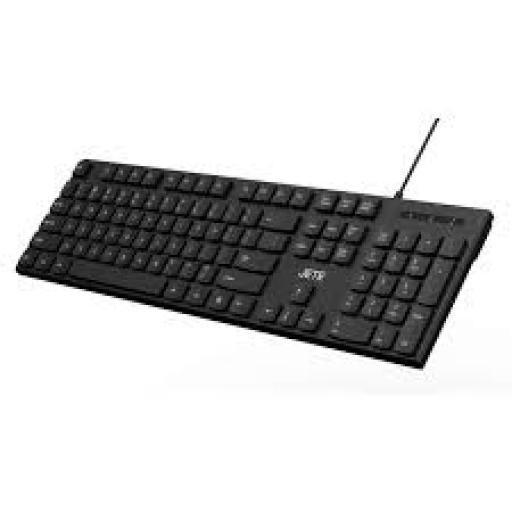KEYBOARD-2: (18, 159, 492, 364)
